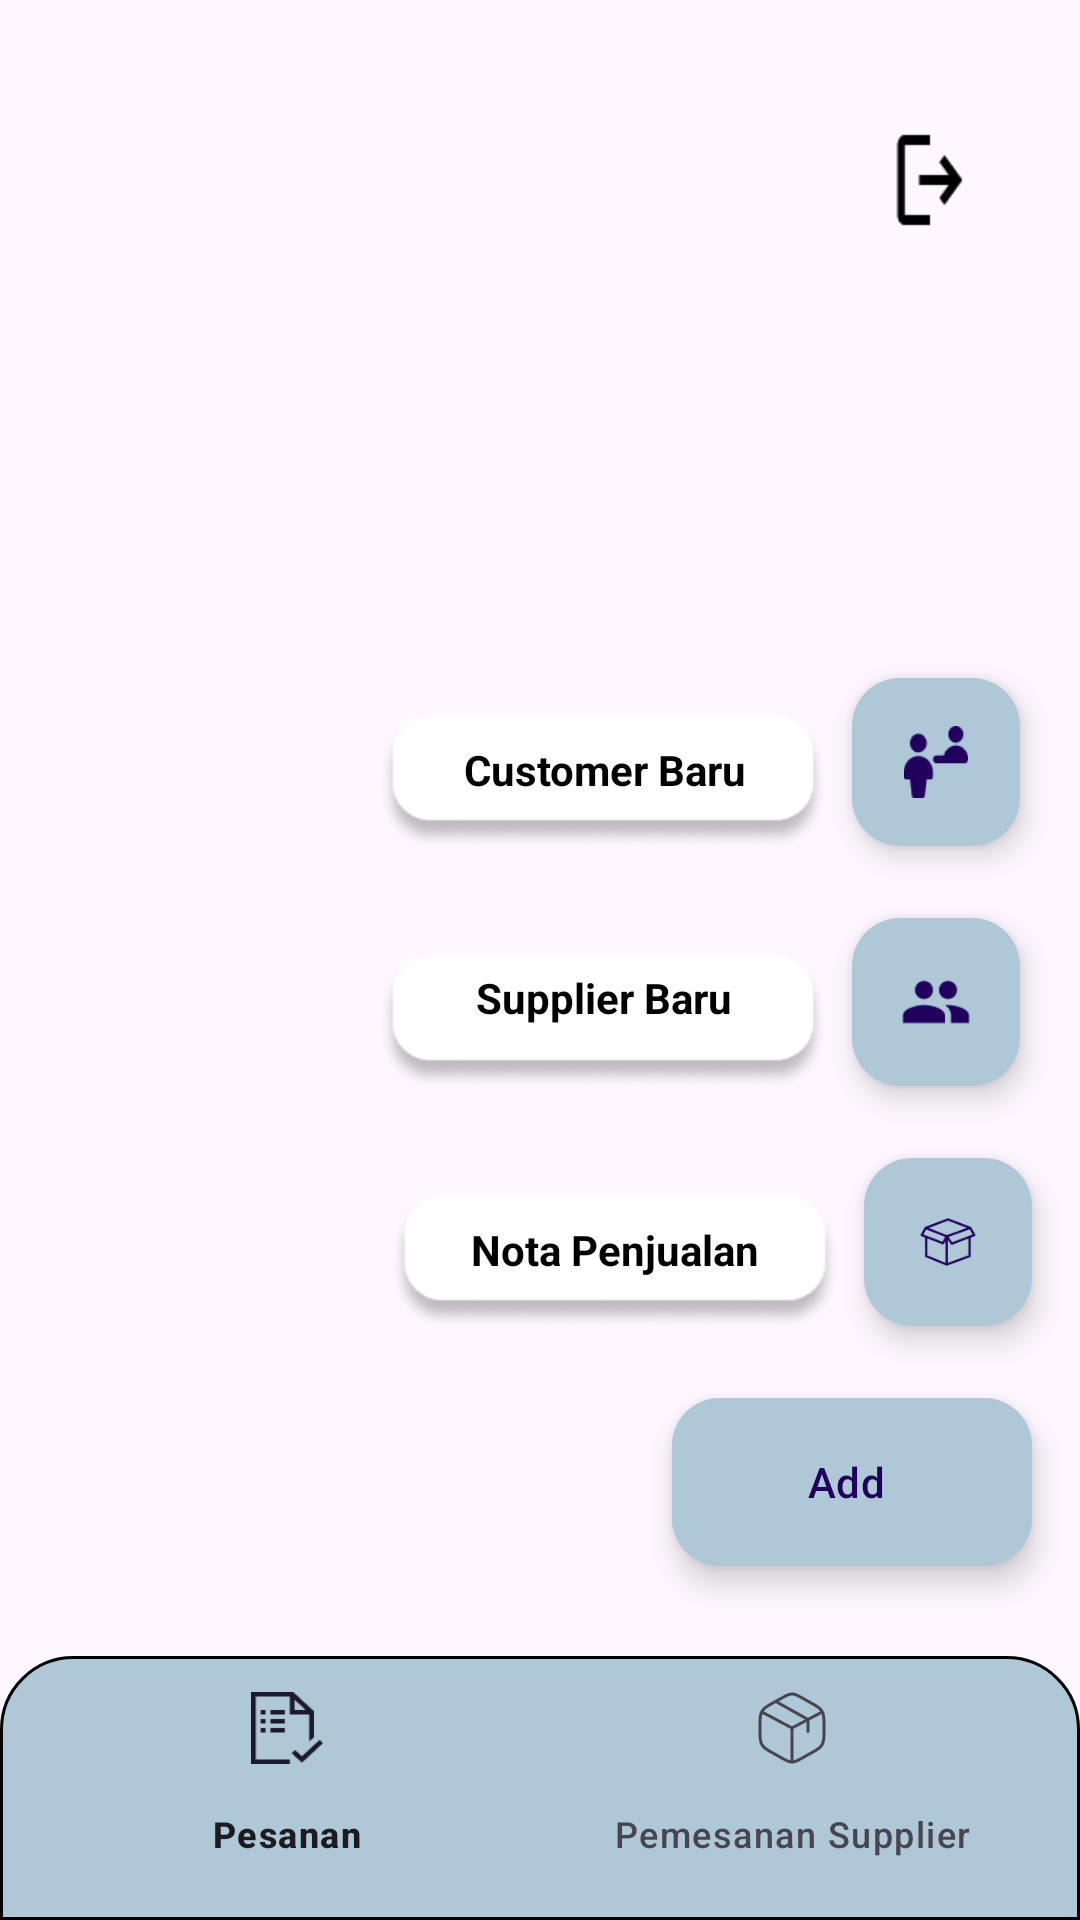

Screen size 1080×1920. Icon name, then its center in pixels as [x,y]:
kardus: [948,1242]
